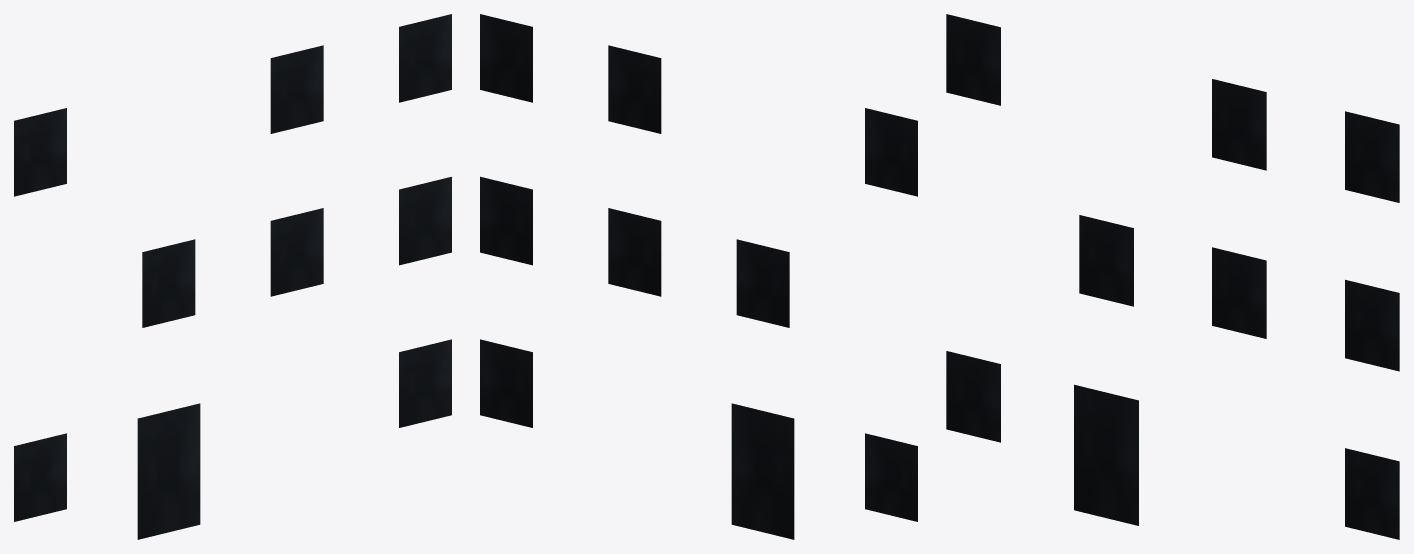
The model's file is Street_BlockR2_Glass.obj.
The picture shows the model from 3 angles, left to right: view 1: azimuth 30°, elevation 25°; view 2: azimuth 150°, elevation 25°; view 3: azimuth 330°, elevation 25°; orthographic projection. The views are drawn at different scales.
Bounding box in the file's own units: 8.87 × 8.7 × 0.
Materials: 1 (1 with a texture image).
